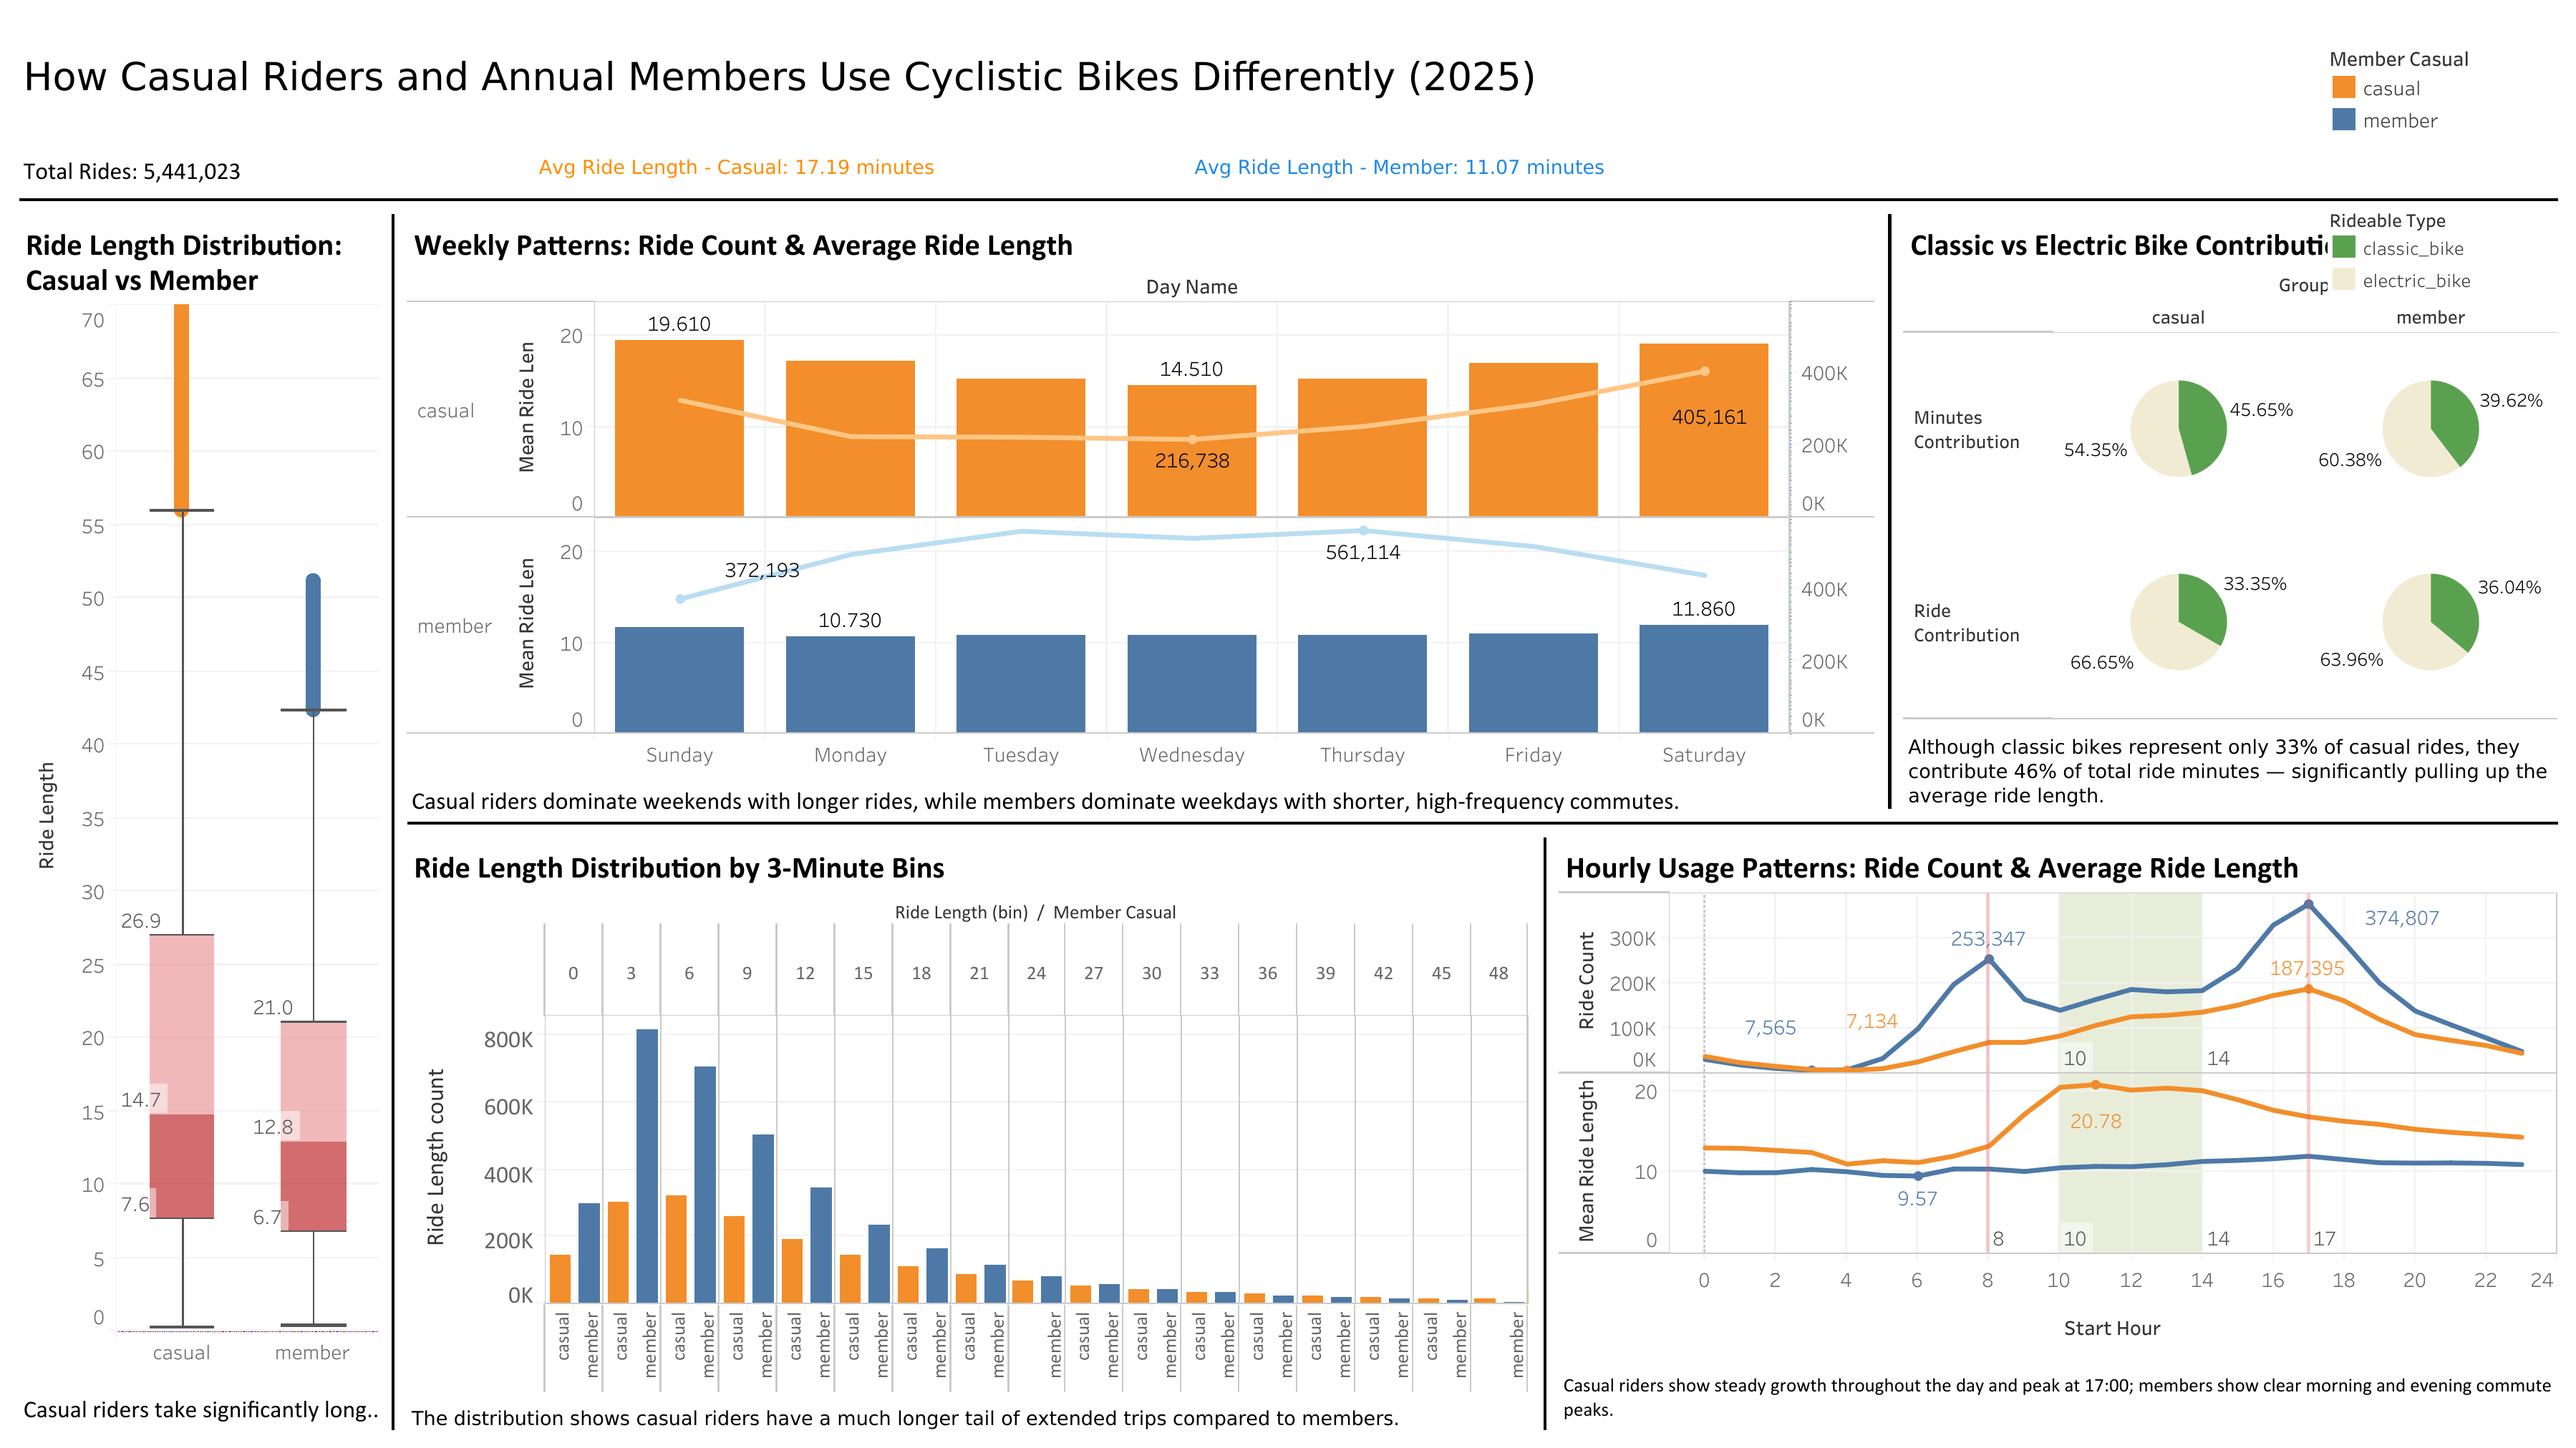

The page's visual inventory and layout, read from the dashboard file:
{"tool":"tableau","page":{"name":"Casual riders take significantly longer trips than members","canvas":[1000,1000],"units":"permille","ordinal":0},"visuals":[{"type":"text","box":[4.8,8.9,990.4,87.8]},{"type":"legend","title":"Ride Length Distribution: Casual vs Member","param":"[federated.1oxqku816cywe3161bekg1hi7rrr].[none:member_casual:nk]","box":[903.1,27.8,84.3,67.8]},{"type":"text","box":[4.8,96.7,200,35.5]},{"type":"text","box":[204.8,96.7,254.7,35.5]},{"type":"text","box":[459.5,96.7,535.7,35.5]},{"type":"blank","box":[4.8,132.2,990.4,11.1]},{"type":"legend","title":"Classic vs Electric Bike Contribution","param":"[federated.0xha9hr10ueigp17gpt8b18qye2a].[none:rideable_type:nk]","box":[903.1,141.1,83.1,64.4]},{"type":"worksheet","title":"Ride Length Distribution: Casual vs Member","mark":"Circle","rows":["ride_length"],"cols":["member_casual"],"box":[4.8,143.3,139.1,792.2]},{"type":"blank","box":[143.9,143.3,6,847.8]},{"type":"worksheet","title":"Weekly Patterns: Ride Count & Average Ride Length","mark":"Bar","rows":["member_casual","mean_ride_length","ride_count"],"cols":["day_name"],"box":[149.9,143.3,553.3,386.7]},{"type":"blank","box":[703.2,143.3,6,418.9]},{"type":"worksheet","title":"Classic vs Electric Bike Contribution","mark":"Pie","cols":["group"],"box":[709.2,143.3,286,357.8]},{"type":"text","box":[709.2,501.1,286,61.1]},{"type":"text","box":[149.9,530,553.3,32.2]},{"type":"blank","box":[149.9,562.2,845.3,11.1]},{"type":"worksheet","title":"Ride Length Distribution by 3-Minute Bins","mark":"Bar","rows":["ride_length"],"cols":["Ride Length (bin)","member_casual"],"box":[149.9,573.3,424.4,391.1]},{"type":"blank","box":[574.4,573.3,6,417.8]},{"type":"worksheet","title":"Hourly Usage Patterns: Ride Count & Average Ride Length","mark":"Automatic","rows":["ride_count","mean_ride_length"],"cols":["start_hour"],"box":[580.4,573.3,414.8,357.8]},{"type":"text","box":[580.4,931.1,414.8,60]},{"type":"text","box":[4.8,935.6,139.1,55.6]},{"type":"text","box":[149.9,964.4,424.4,26.7]}]}

Visuals, with their boxes on the dashboard's canvas, which has no fixed pixel size, in thousandths of its width and height (x1, y1, x2, y2). These are canvas units, not pixel positions in the 2576x1448 screenshot, which may show the page scaled, cropped or inside an application window:
text: region(5, 9, 995, 97)
"Ride Length Distribution: Casual vs Member" legend: region(903, 28, 987, 96)
text: region(5, 97, 205, 132)
text: region(205, 97, 460, 132)
text: region(460, 97, 995, 132)
blank: region(5, 132, 995, 143)
"Classic vs Electric Bike Contribution" legend: region(903, 141, 986, 206)
"Ride Length Distribution: Casual vs Member" worksheet (Circle marks): region(5, 143, 144, 936)
blank: region(144, 143, 150, 991)
"Weekly Patterns: Ride Count & Average Ride Length" worksheet (Bar marks): region(150, 143, 703, 530)
blank: region(703, 143, 709, 562)
"Classic vs Electric Bike Contribution" worksheet (Pie marks): region(709, 143, 995, 501)
text: region(709, 501, 995, 562)
text: region(150, 530, 703, 562)
blank: region(150, 562, 995, 573)
"Ride Length Distribution by 3-Minute Bins" worksheet (Bar marks): region(150, 573, 574, 964)
blank: region(574, 573, 580, 991)
"Hourly Usage Patterns: Ride Count & Average Ride Length" worksheet: region(580, 573, 995, 931)
text: region(580, 931, 995, 991)
text: region(5, 936, 144, 991)
text: region(150, 964, 574, 991)
